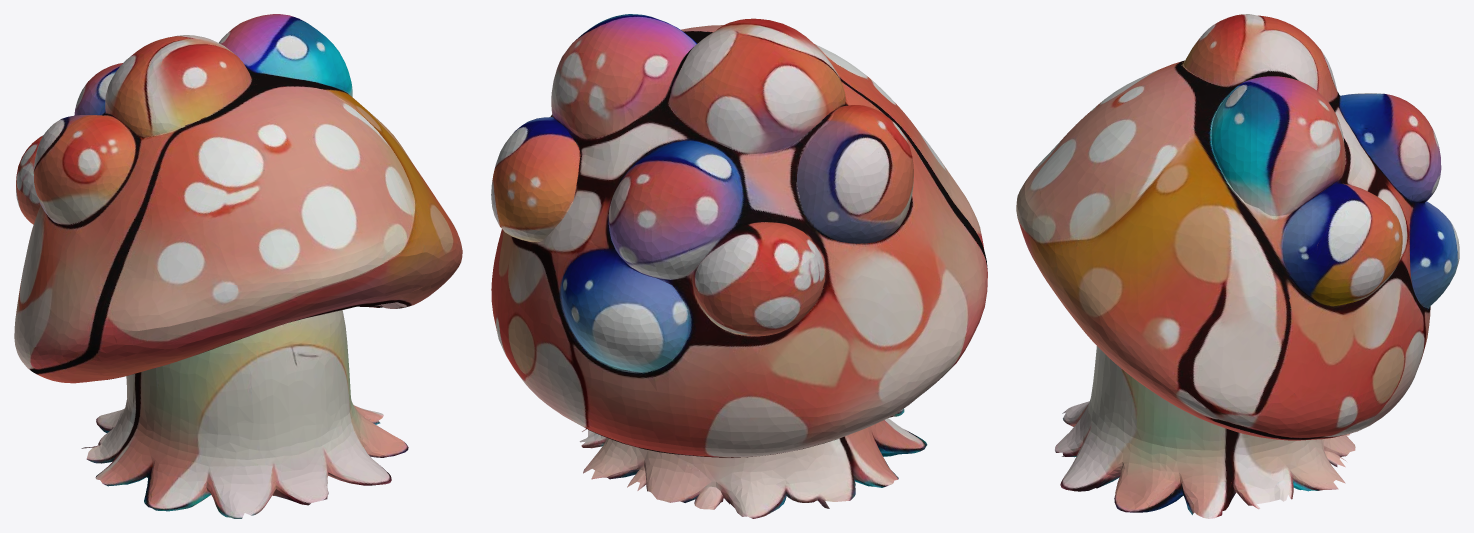
The model's file is spore_cap.glb.
3 views of the same model, side by side, from view 1: azimuth 30°, elevation 25°; view 2: azimuth 150°, elevation 25°; view 3: azimuth 270°, elevation 25° (orthographic). The views are drawn at different scales.
Parts seen in each view (by area): view 1: geometry_0; view 2: geometry_0; view 3: geometry_0.
Part boxes in pixels (x1,y1,x2,y2): geometry_0: (14, 14, 462, 518); geometry_0: (491, 14, 987, 518); geometry_0: (1016, 14, 1459, 518).
Bounding box in the file's own units: 1.49 × 1.4 × 1.37.
1 material, 1 textured.
